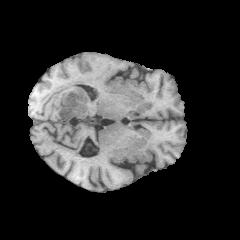glioma: (41, 81, 89, 120)
